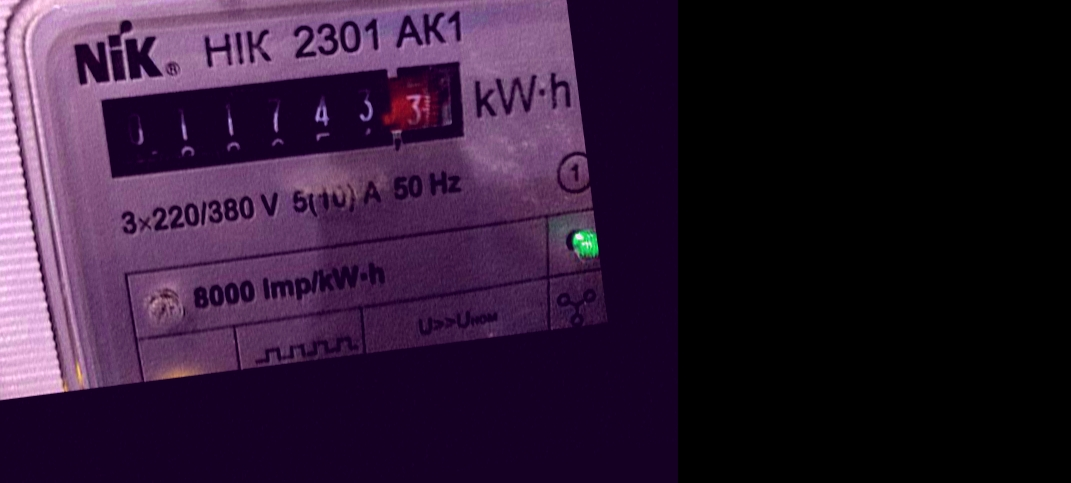0: (124, 108, 150, 150), (173, 101, 196, 144)
1: (220, 97, 241, 139)
3: (354, 82, 379, 127), (403, 89, 428, 129)
4: (309, 88, 334, 130)
7: (262, 90, 291, 137)
screen: (81, 40, 480, 195)
